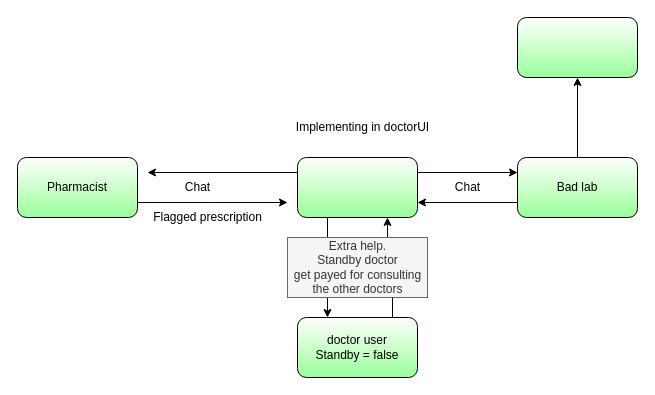
This 655x395 diagram has some shape labels left out. Here are the shapes that lost their labels. From the top down, the centre of each, then its label:
At (577,47): "Hospital".
At (357,187): "doctor user Standby = true".
